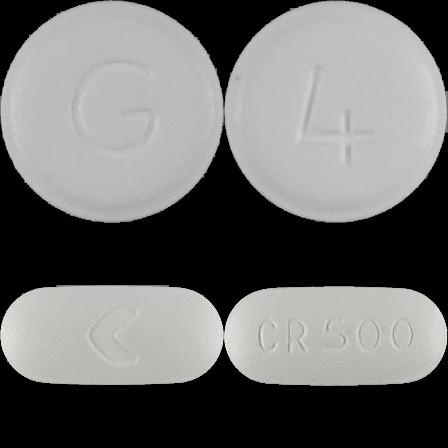68788-9329: (0, 0, 224, 224)
